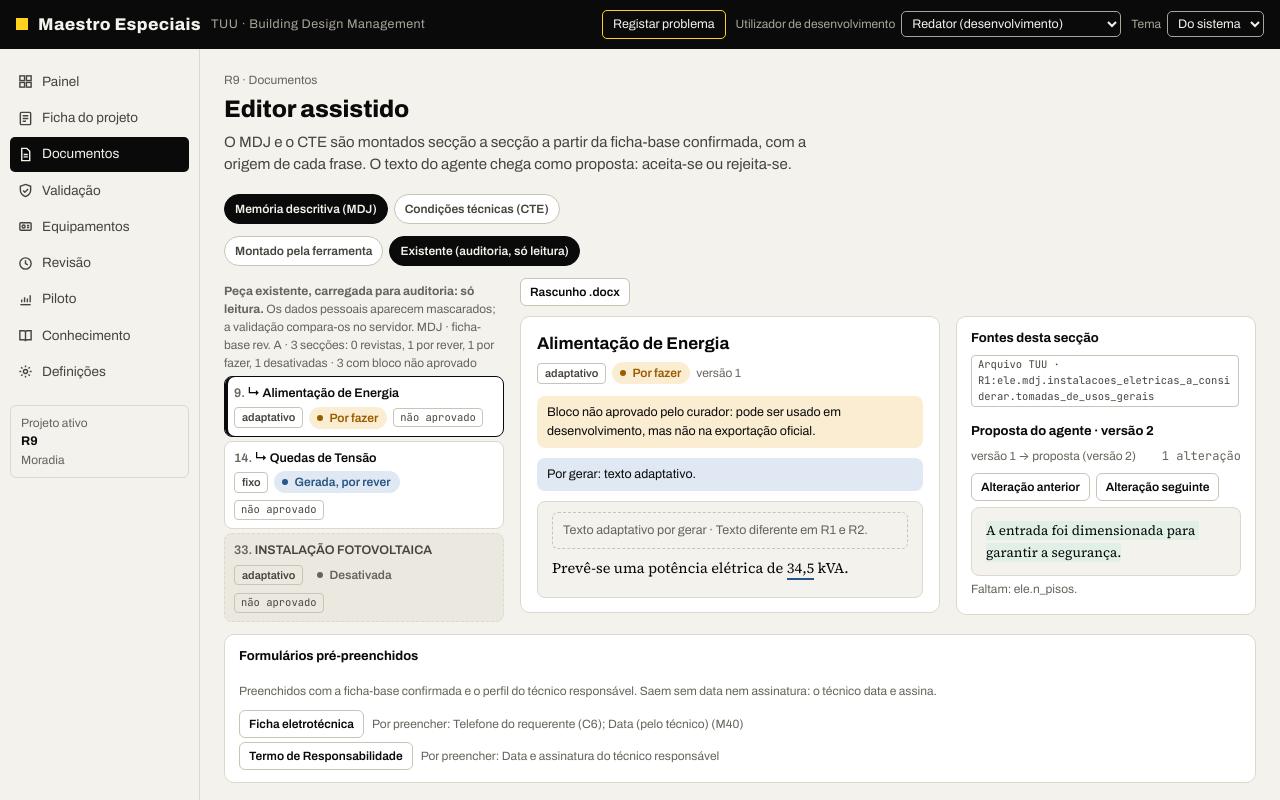
Test: assisted editor (screen D) › offers to assemble the MDJ of an audited project, next to the existing one
The image size is (1280, 800).
Expected: the text "Peça existente, carregada para auditoria: só leitura." is shown, x1=224 y1=284 x2=474 y2=316
Click the button "Montado pela ferramenta".
click(304, 251)  # box x1=224 y1=236 x2=384 y2=266
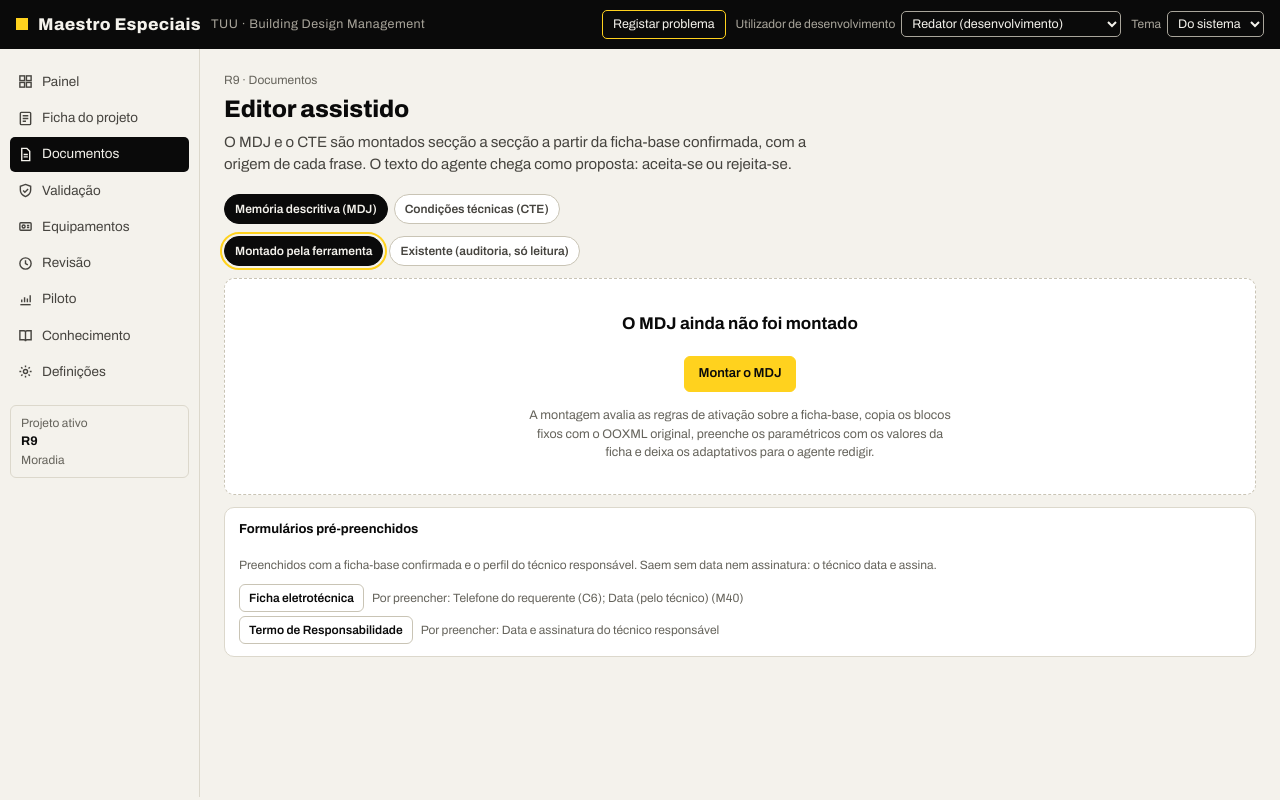
Expected: the button "Montar o MDJ" is shown, x1=684 y1=356 x2=796 y2=392
Click the button "Existente (auditoria, só leitura)".
click(485, 251)  # box x1=390 y1=236 x2=580 y2=266
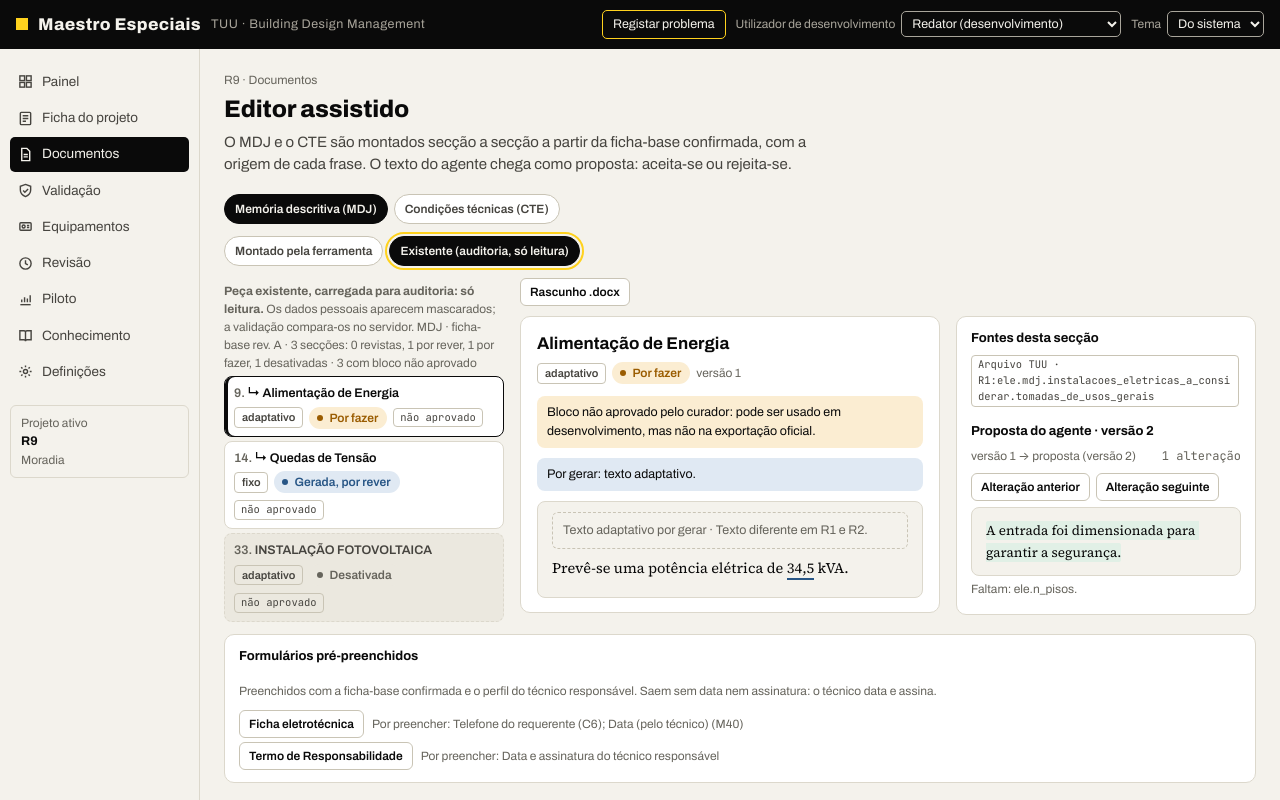
Expected: the text "Peça existente, carregada para auditoria: só leitura." is shown, x1=224 y1=284 x2=474 y2=316
